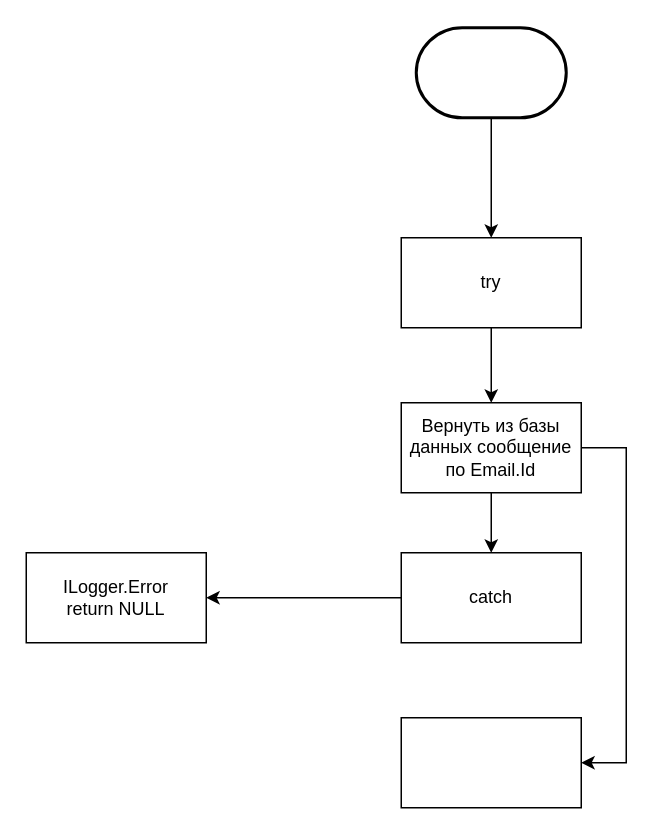
Image size: 665x834. Some labels were removed from this diagram. Here are the shapes that lost their labels. From the top down, the centre of each, then its label:
At pixel 490 72: "НАЧАЛО".
At pixel 490 762: "ILogger.Info return email".
